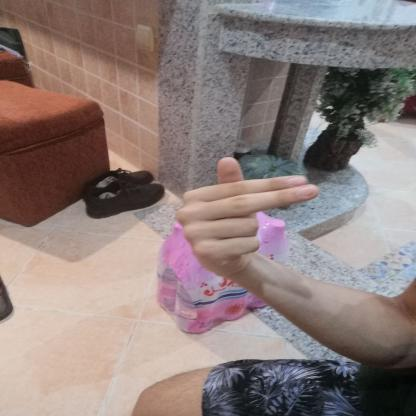GHAYN: (163, 147, 334, 283)
